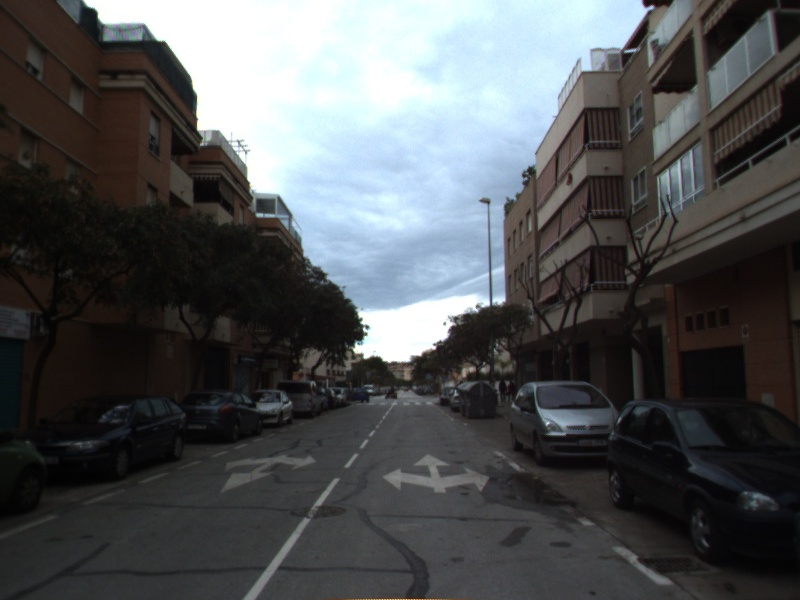STRAIGHT_LEFT_RIGHT: (380, 451, 492, 495)
